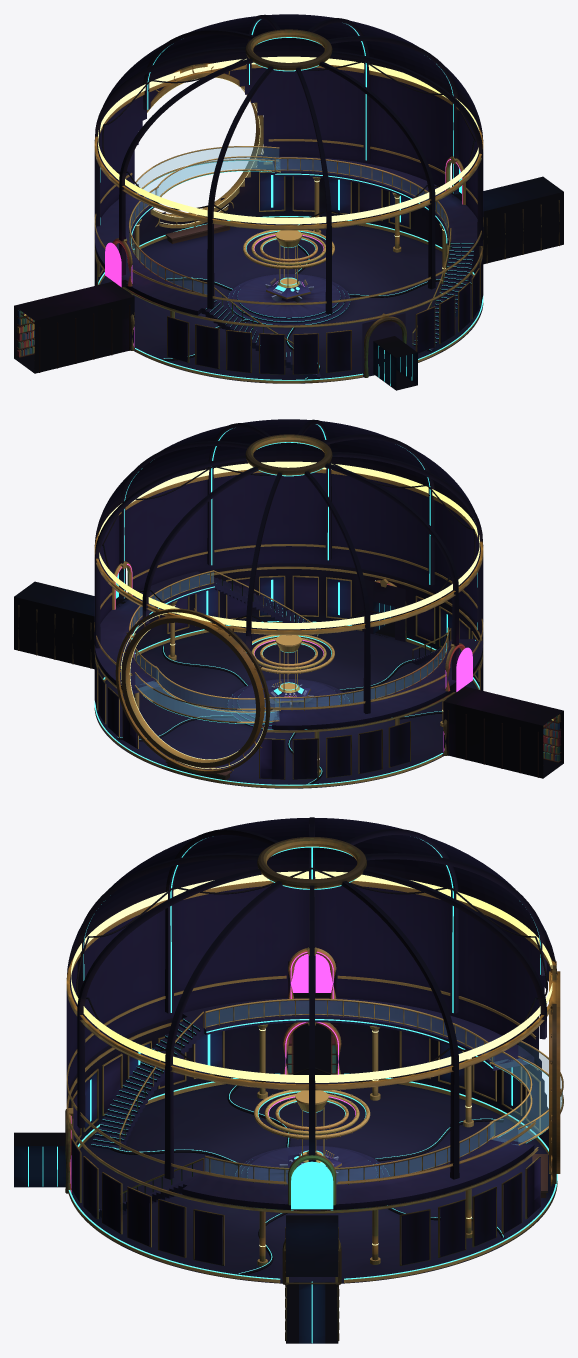
File: tess_room.glb
3 renders of one model, top to bottom at view 1: azimuth 30°, elevation 25°; view 2: azimuth 150°, elevation 25°; view 3: azimuth 270°, elevation 25°, orthographic. The views are drawn at different scales.
Visible parts, largest first — view 1: tess_wall, tess_floor, tess_ribs, tess_panels, tess_dome, tess_mezz, tess_trim, tess_corr_library, tess_corr_orrery, tess_rail_glass, tess_tape, tess_dais (+23 smaller); view 2: tess_wall, tess_floor, tess_ribs, tess_panels, tess_dome, tess_mezz, tess_trim, tess_corr_library, tess_window_frame, tess_corr_orrery, tess_rail_glass, tess_tape (+20 smaller); view 3: tess_wall, tess_floor, tess_ribs, tess_panels, tess_mezz, tess_dome, tess_trim, tess_rail_glass, tess_tape, tess_corr_orrery, tess_panel_frames, tess_stairs (+19 smaller).
Boxes of the visible parts, x1=… form: tess_wall: x1=94, y1=67, x2=483, y2=281; tess_floor: x1=100, y1=222, x2=482, y2=383; tess_ribs: x1=95, y1=14, x2=482, y2=314; tess_panels: x1=94, y1=172, x2=483, y2=374; tess_dome: x1=94, y1=14, x2=483, y2=140; tess_mezz: x1=95, y1=156, x2=482, y2=315; tess_trim: x1=94, y1=64, x2=483, y2=383; tess_corr_library: x1=14, y1=281, x2=134, y2=373; tess_corr_orrery: x1=448, y1=176, x2=563, y2=264; tess_rail_glass: x1=131, y1=147, x2=447, y2=294; tess_tape: x1=98, y1=56, x2=479, y2=224; tess_dais: x1=228, y1=274, x2=349, y2=325; tess_wall: x1=94, y1=472, x2=483, y2=686; tess_floor: x1=95, y1=627, x2=477, y2=788; tess_ribs: x1=95, y1=419, x2=482, y2=713; tess_panels: x1=94, y1=577, x2=483, y2=779; tess_dome: x1=94, y1=419, x2=483, y2=545; tess_mezz: x1=95, y1=571, x2=482, y2=729; tess_trim: x1=94, y1=469, x2=483, y2=788; tess_corr_library: x1=443, y1=686, x2=563, y2=778; tess_window_frame: x1=115, y1=608, x2=272, y2=773; tess_corr_orrery: x1=14, y1=581, x2=134, y2=669; tess_rail_glass: x1=130, y1=572, x2=446, y2=720; tess_tape: x1=98, y1=461, x2=479, y2=629; tess_wall: x1=66, y1=886, x2=550, y2=1148; tess_floor: x1=69, y1=1080, x2=557, y2=1283; tess_ribs: x1=77, y1=817, x2=546, y2=1179; tess_panels: x1=71, y1=1031, x2=540, y2=1265; tess_mezz: x1=182, y1=997, x2=534, y2=1210; tess_dome: x1=66, y1=818, x2=557, y2=978; tess_trim: x1=66, y1=880, x2=557, y2=1283; tess_rail_glass: x1=205, y1=1001, x2=562, y2=1183; tess_tape: x1=71, y1=871, x2=552, y2=1082; tess_corr_orrery: x1=286, y1=1215, x2=338, y2=1343; tess_panel_frames: x1=71, y1=1031, x2=540, y2=1265; tess_stairs: x1=91, y1=1017, x2=204, y2=1219.
Size of the model in its own units: 44 by 20.31 by 31.36.
